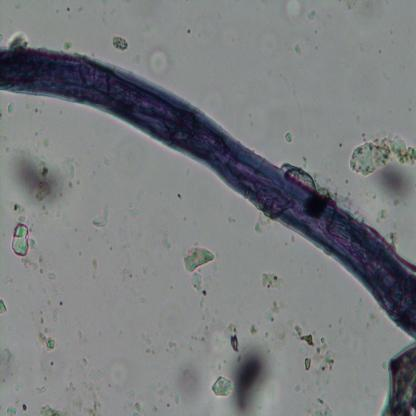Background material: (206, 324, 280, 414), (349, 131, 416, 204), (13, 145, 65, 210), (374, 342, 416, 415), (294, 326, 336, 388), (180, 238, 218, 302), (72, 360, 104, 414), (10, 204, 38, 262), (173, 359, 205, 401), (147, 47, 171, 75), (35, 326, 57, 354), (260, 270, 285, 292), (90, 205, 110, 232), (40, 403, 72, 415), (110, 34, 129, 48), (7, 397, 21, 415), (0, 296, 9, 321), (306, 7, 318, 23), (283, 130, 293, 144), (294, 44, 302, 56)
Cotton: (0, 46, 416, 340)
